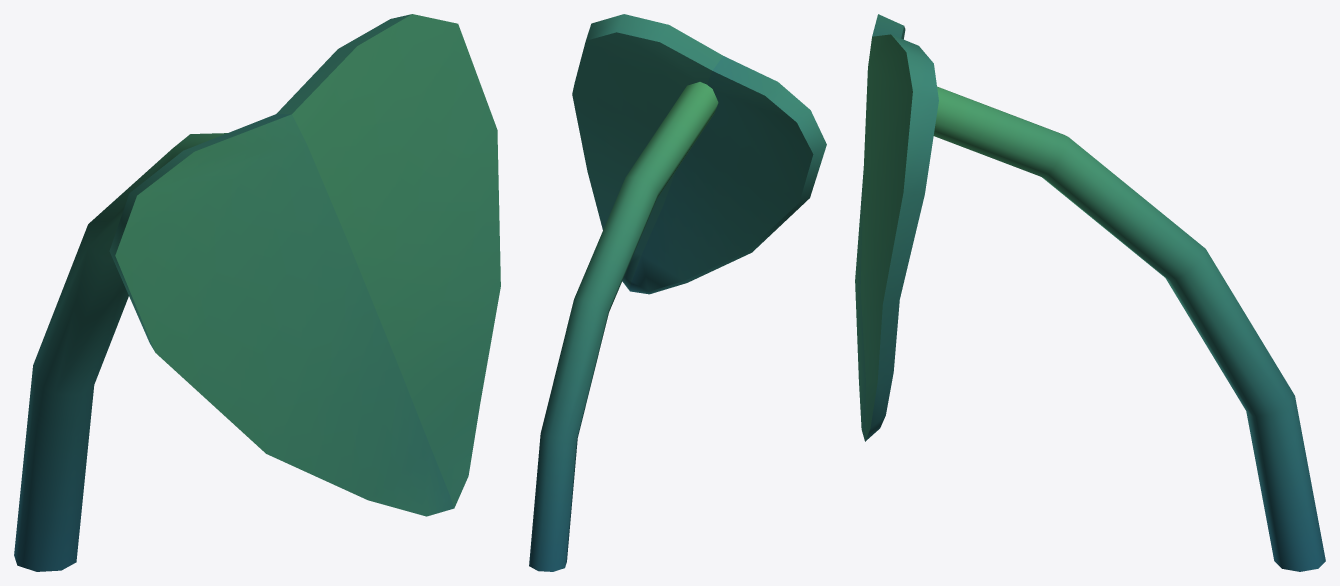
Rendered from monstera-leaf.glb.
3 views of the same model, side by side, from view 1: azimuth 30°, elevation 25°; view 2: azimuth 150°, elevation 25°; view 3: azimuth 270°, elevation 25° (orthographic). The views are drawn at different scales.
Parts seen in each view (by area): view 1: monstera_leaf_small_C; view 2: monstera_leaf_small_C; view 3: monstera_leaf_small_C.
Part boxes in pixels (x1,y1,x2,y2): monstera_leaf_small_C: (14, 14, 500, 571); monstera_leaf_small_C: (529, 14, 826, 571); monstera_leaf_small_C: (855, 14, 1325, 571).
Size of the model in its own units: 0.3561 by 0.5935 by 0.4555.
Materials: 1 (1 with a texture image).
